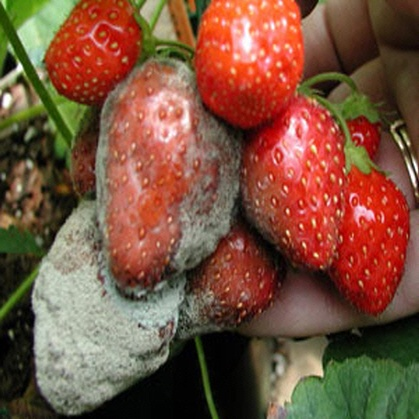Gray_Mold: (110, 59, 324, 301), (185, 199, 388, 416), (135, 211, 289, 339), (78, 159, 240, 269)
